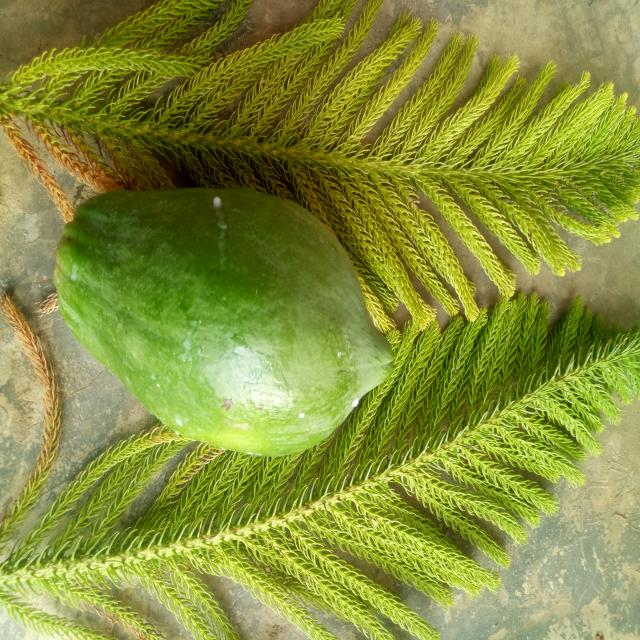Pepaya unrippen: (48, 187, 396, 472)
